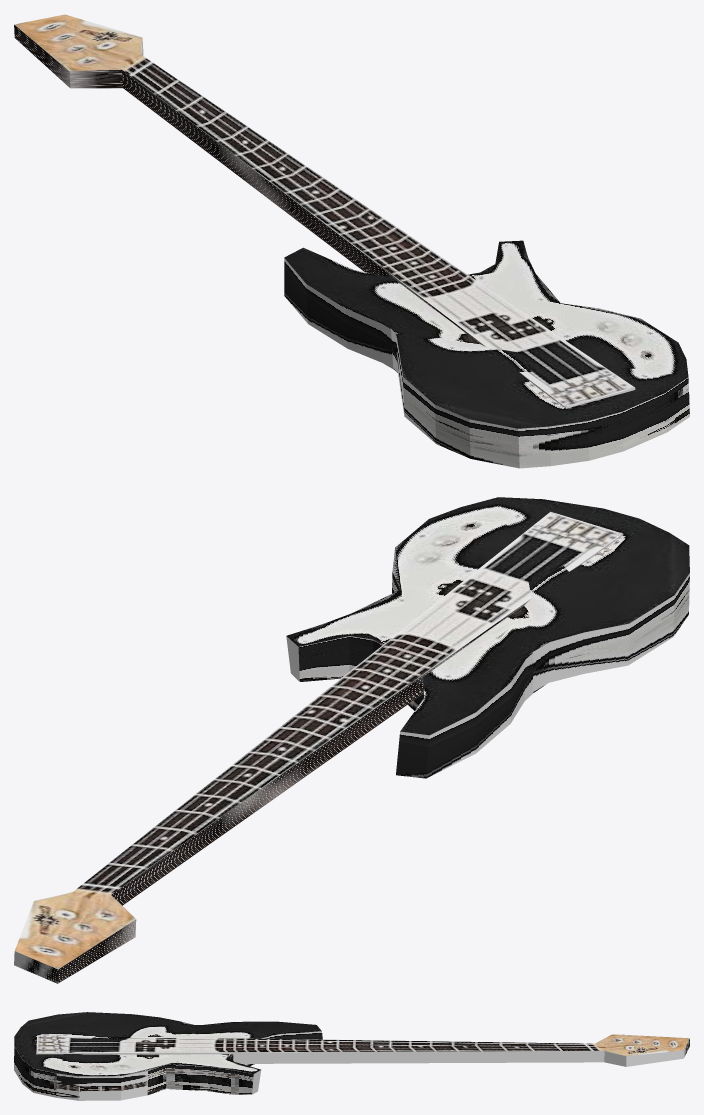
File: bass_perso_1.gltf
The picture shows the model from 3 angles, top to bottom: view 1: azimuth 30°, elevation 25°; view 2: azimuth 150°, elevation 25°; view 3: azimuth 270°, elevation 25°; orthographic projection. The views are drawn at different scales.
Visible parts, largest first — view 1: Cylinder, Cube; view 2: Cylinder, Cube; view 3: Cylinder, Cube.
Part boxes in pixels (x1,y1,x2,y2): Cylinder: [284, 240, 689, 468]; Cube: [14, 14, 635, 408]; Cylinder: [286, 497, 689, 778]; Cube: [14, 511, 623, 983]; Cylinder: [14, 1012, 322, 1100]; Cube: [36, 1034, 689, 1066].
Bounding box in the file's own units: 7.58 × 1.54 × 30.9.
Materials: 2 (2 with a texture image).
